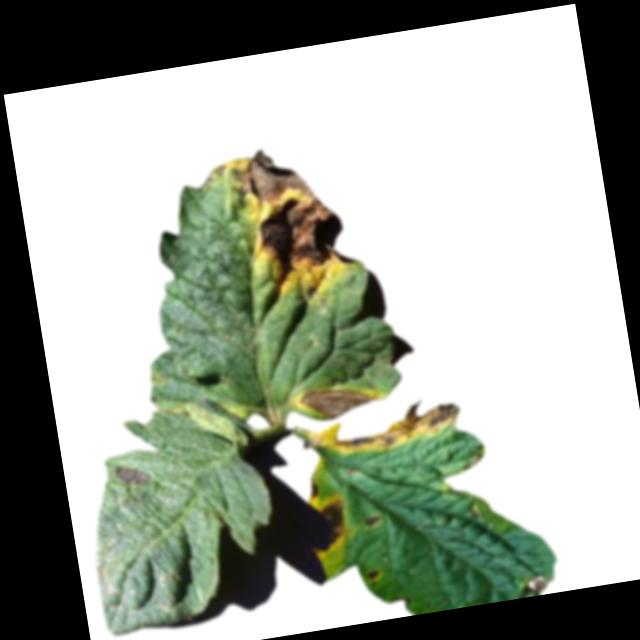Early_blight: (231, 139, 351, 287), (327, 394, 465, 461), (294, 380, 375, 420), (321, 497, 352, 537), (112, 463, 152, 489), (360, 514, 383, 530), (363, 571, 383, 585)
